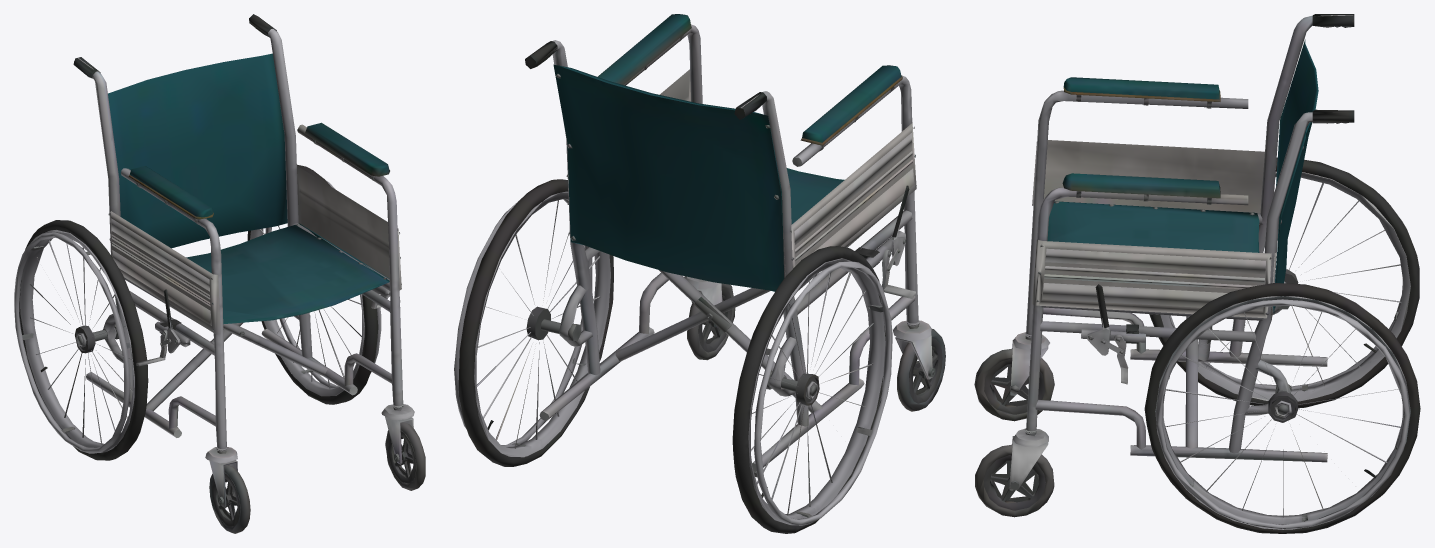
Rendered from wheelchair_01.glb.
The picture shows the model from 3 angles, left to right: view 1: azimuth 30°, elevation 25°; view 2: azimuth 150°, elevation 25°; view 3: azimuth 270°, elevation 25°; orthographic projection. The views are drawn at different scales.
Visible parts, largest first — view 1: wheelchair_01; view 2: wheelchair_01; view 3: wheelchair_01.
Part boxes in pixels (box(x1,y1,x2,y2)): wheelchair_01: box(14, 14, 425, 533); wheelchair_01: box(454, 14, 945, 533); wheelchair_01: box(974, 14, 1420, 533).
Size of the model in its own units: 0.824 by 1.1 by 1.09.
1 material, 1 textured.
